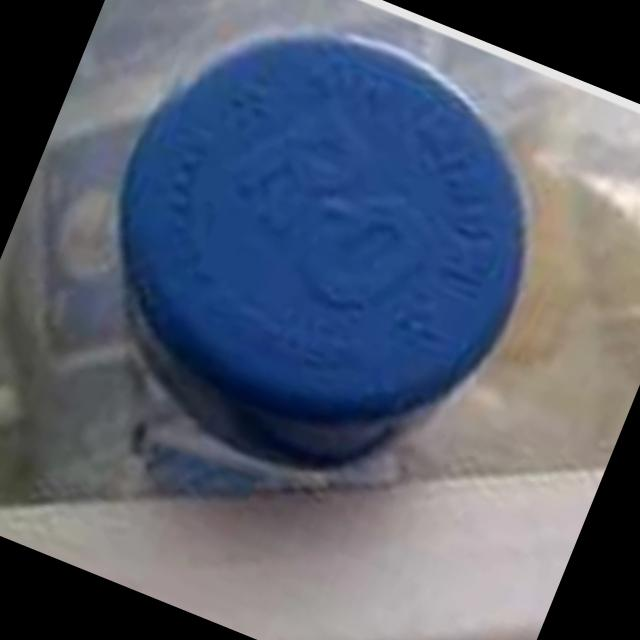TutupGalon: (33, 0, 623, 552)
